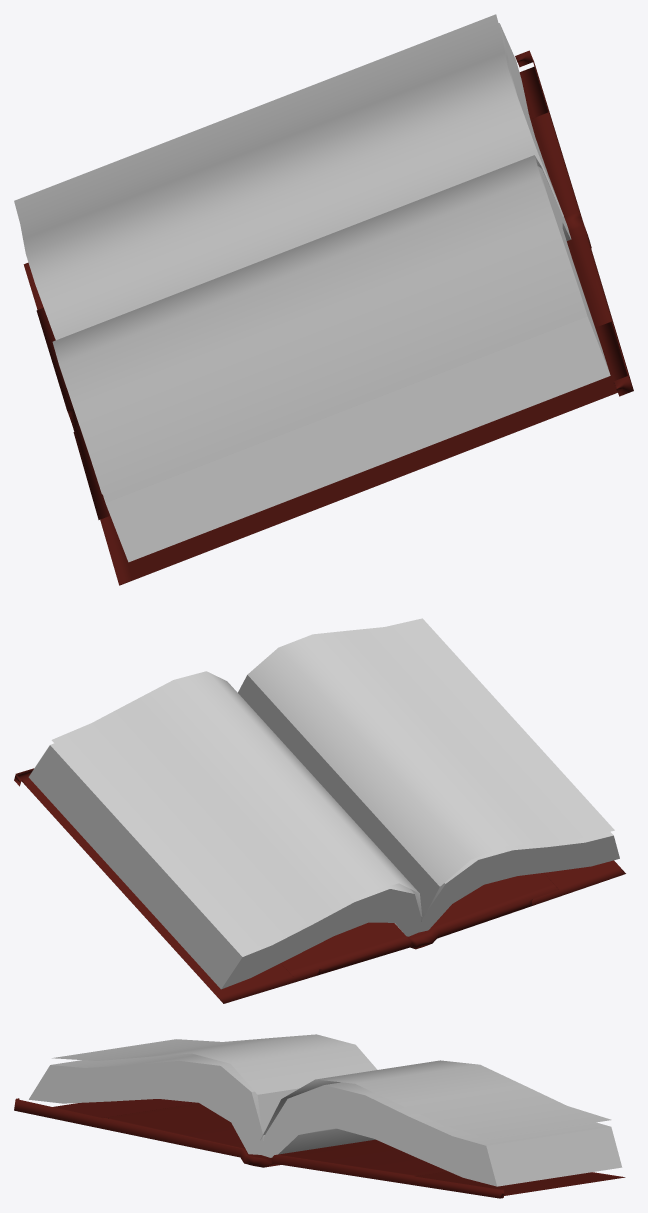
The model's file is Iglesia-Misal(lowpoly).fbx.
3 renders of one model, top to bottom at view 1: azimuth 30°, elevation 25°; view 2: azimuth 150°, elevation 25°; view 3: azimuth 270°, elevation 25°, orthographic. The views are drawn at different scales.
Visible parts, largest first — view 1: Low_Pag-DerM, Low_PagIzqM, Low_CuerpoM, Low_CubiertaM; view 2: Low_Pag-DerM, Low_PagIzqM, Low_CuerpoM, Low_CubiertaM; view 3: Low_CuerpoM, Low_CubiertaM, Low_PagIzqM, Low_Pag-DerM.
Boxes of the visible parts, bbox=[...] form: Low_Pag-DerM: bbox=[52, 155, 583, 494]; Low_PagIzqM: bbox=[14, 14, 563, 340]; Low_CuerpoM: bbox=[103, 23, 610, 562]; Low_CubiertaM: bbox=[23, 50, 633, 585]; Low_Pag-DerM: bbox=[238, 618, 614, 913]; Low_PagIzqM: bbox=[51, 671, 422, 951]; Low_CuerpoM: bbox=[28, 743, 619, 989]; Low_CubiertaM: bbox=[14, 768, 625, 1003]; Low_CuerpoM: bbox=[29, 1053, 622, 1186]; Low_CubiertaM: bbox=[14, 1098, 625, 1198]; Low_PagIzqM: bbox=[260, 1060, 611, 1139]; Low_Pag-DerM: bbox=[52, 1034, 377, 1140].
Bounding box in the file's own units: 0.4346 × 0.178 × 0.513.
